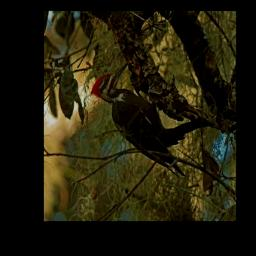Woodpecker: (90, 63, 188, 178)
